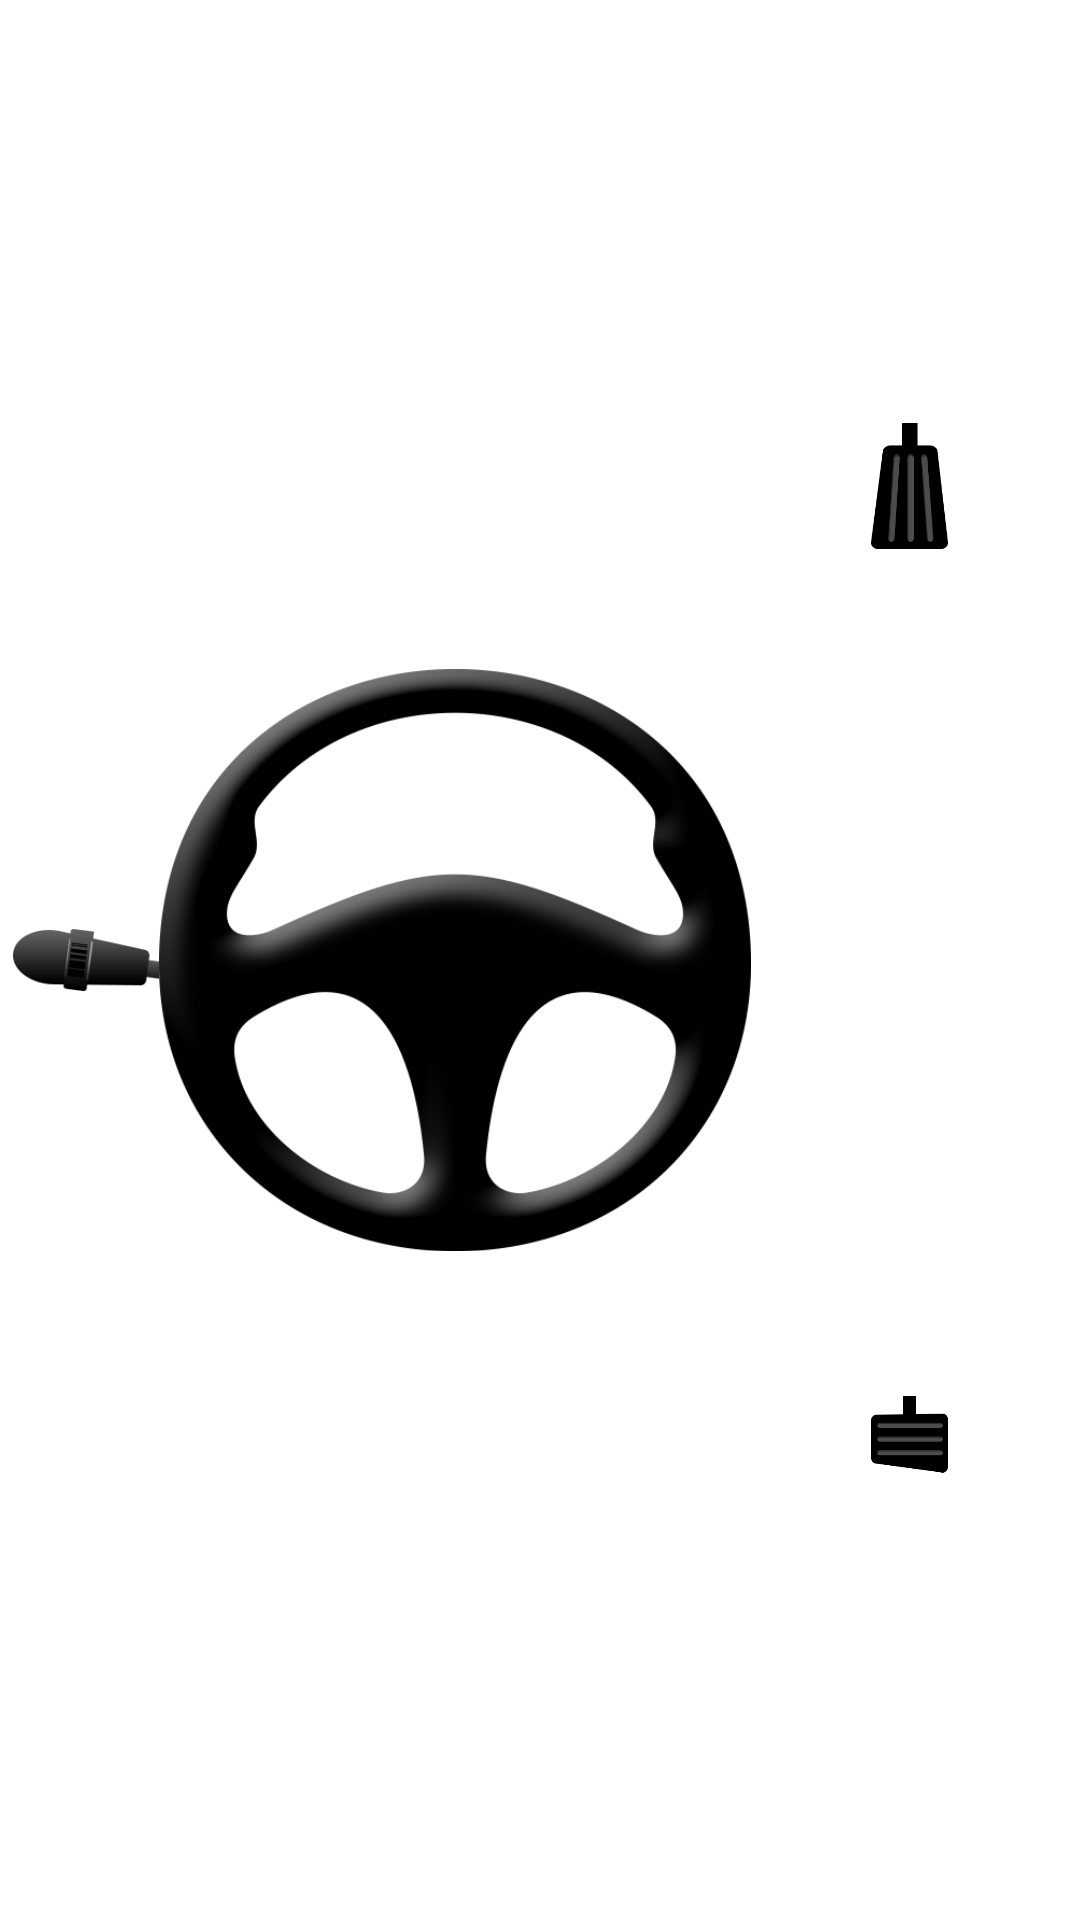

Named icons in this screenshot (1080 × 1920) and their bounding boxes, (x1, y1, x2, y2):
accelerator: (871, 423, 948, 549)
brake: (871, 1396, 948, 1473)
turn stick: (13, 929, 159, 991)
